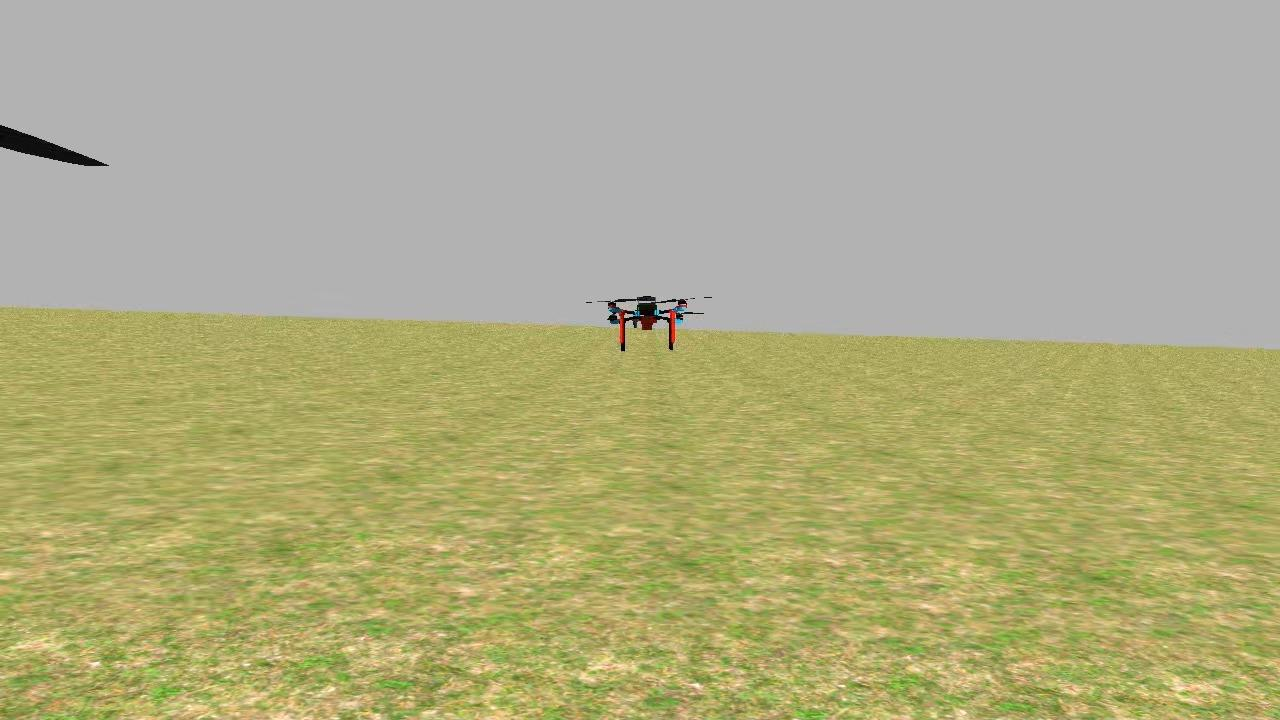UAV: (593, 283, 705, 358)
